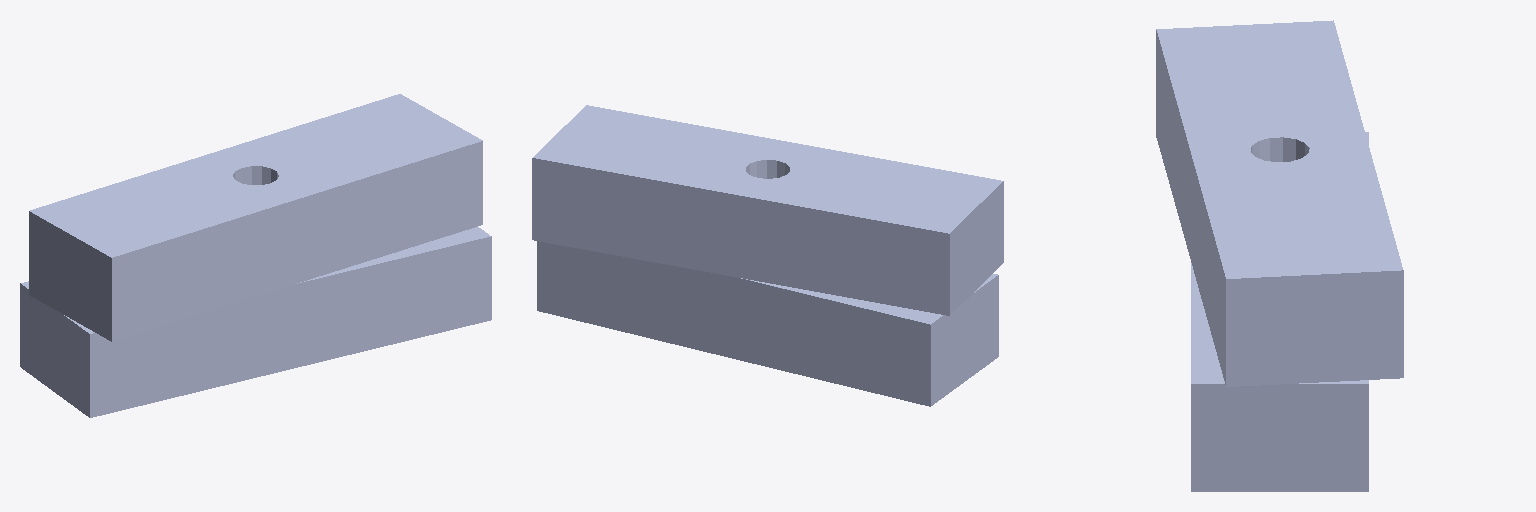
URDF robot description (test_69):
<?xml version="1.0" encoding="utf-8"?>
<!-- This URDF was automatically created by SolidWorks to URDF Exporter! Originally created by [author] ([email redacted]) 
     Commit Version: 1.6.0-1-g15f4949  Build Version: 1.6.7594.29634
     For more information, please see http://wiki.ros.org/sw_urdf_exporter -->
<robot
  name="test_69">
  <link
    name="base_link">
    <inertial>
      <origin
        xyz="-1.0983E-18 0.01 -2.9975E-18"
        rpy="0 0 0" />
      <mass
        value="0.058429" />
      <inertia
        ixx="6.4378E-06"
        ixy="-4.8692E-22"
        ixz="2.0832E-21"
        iyy="5.448E-05"
        iyz="-9.7921E-39"
        izz="5.1938E-05" />
    </inertial>
    <visual>
      <origin
        xyz="0 0 0"
        rpy="0 0 0" />
      <geometry>
        <mesh
          filename="package://test_69/meshes/base_link.STL" />
      </geometry>
      <material
        name="">
        <color
          rgba="0.79216 0.81961 0.93333 1" />
      </material>
    </visual>
    <collision>
      <origin
        xyz="0 0 0"
        rpy="0 0 0" />
      <geometry>
        <mesh
          filename="package://test_69/meshes/base_link.STL" />
      </geometry>
    </collision>
  </link>
  <link
    name="test_link">
    <inertial>
      <origin
        xyz="-7.8061E-18 0.01 -7.0438E-18"
        rpy="0 0 0" />
      <mass
        value="0.058429" />
      <inertia
        ixx="6.4378E-06"
        ixy="-6.6214E-22"
        ixz="-1.9058E-21"
        iyy="5.448E-05"
        iyz="-9.5155E-23"
        izz="5.1938E-05" />
    </inertial>
    <visual>
      <origin
        xyz="0 0 0"
        rpy="0 0 0" />
      <geometry>
        <mesh
          filename="package://test_69/meshes/test_link.STL" />
      </geometry>
      <material
        name="">
        <color
          rgba="0.79216 0.81961 0.93333 1" />
      </material>
    </visual>
    <collision>
      <origin
        xyz="0 0 0"
        rpy="0 0 0" />
      <geometry>
        <mesh
          filename="package://test_69/meshes/test_link.STL" />
      </geometry>
    </collision>
  </link>
  <joint
    name="Test_joint"
    type="continuous">
    <origin
      xyz="0 0 0.02"
      rpy="1.5708 0 0.11741" />
    <parent
      link="base_link" />
    <child
      link="test_link" />
    <axis
      xyz="0 1 0" />
  </joint>
  <gazebo>
    <plugin name="gazebo_ros_control" filename="libgazebo_ros_control.so">
      <robotNamespace>/test_69</robotNamespace>
      <robotSimType>gazebo_ros_control/DefaultRobotHWSim</robotSimType>
      <legacyModeNS>true</legacyModeNS>
    </plugin>
  </gazebo>

  <!-- transmission -->
  <transmission name="base_to_second_trans">
    <type>transmission_interface/SimpleTransmission</type>
    <actuator name="motor1">
      <mechanicalReduction>1</mechanicalReduction>
    </actuator>
    <joint name="Test_joint">
      <hardwareInterface>PositionJointInterface</hardwareInterface>
    </joint>
  </transmission>
`
</robot>

--- What the picture shows (computed from the rendered views, not written in the file) ---
Views: 3 orthographic renders of the robot side by side, from view 1: azimuth 30°, elevation 25°; view 2: azimuth 150°, elevation 25°; view 3: azimuth 270°, elevation 25°.
Robot: test_69 — 2 links, 1 joints (1 continuous); root link base_link; default pose: all joints at 0.
Links seen in each view (by area): view 1: test_link, base_link; view 2: test_link, base_link; view 3: test_link, base_link.
Link boxes in pixels (bbox=[...]): test_link: bbox=[29, 94, 482, 341]; base_link: bbox=[20, 227, 491, 417]; test_link: bbox=[532, 105, 1003, 315]; base_link: bbox=[537, 241, 998, 406]; test_link: bbox=[1156, 20, 1403, 386]; base_link: bbox=[1191, 132, 1368, 491].
Bounding box of the posed robot: 0.1028 × 0.0415 × 0.04 m (x, y, z).
2 mesh visuals loaded from 2 distinct referenced files (2 binary STL).
